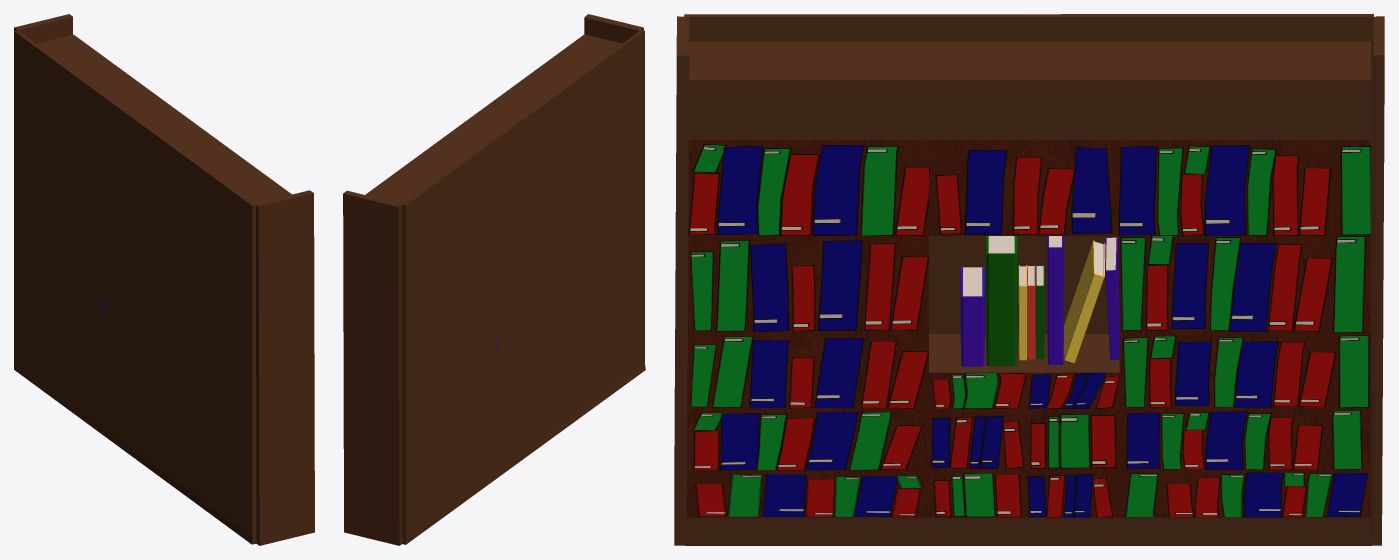
File: Estante_Puzzle.fbx
The picture shows the model from 3 angles, left to right: view 1: azimuth 30°, elevation 25°; view 2: azimuth 150°, elevation 25°; view 3: azimuth 270°, elevation 25°; orthographic projection. The views are drawn at different scales.
Parts seen in each view (by area): view 1: estante; view 2: estante; view 3: estante, livros.
Boxes of the visible parts, box(x1,y1,x2,y2) form: estante: box(14, 14, 314, 545); estante: box(343, 14, 645, 545); estante: box(674, 14, 1384, 545); livros: box(960, 236, 1119, 366).
Bounding box in the file's own units: 218 × 1183 × 1552.
